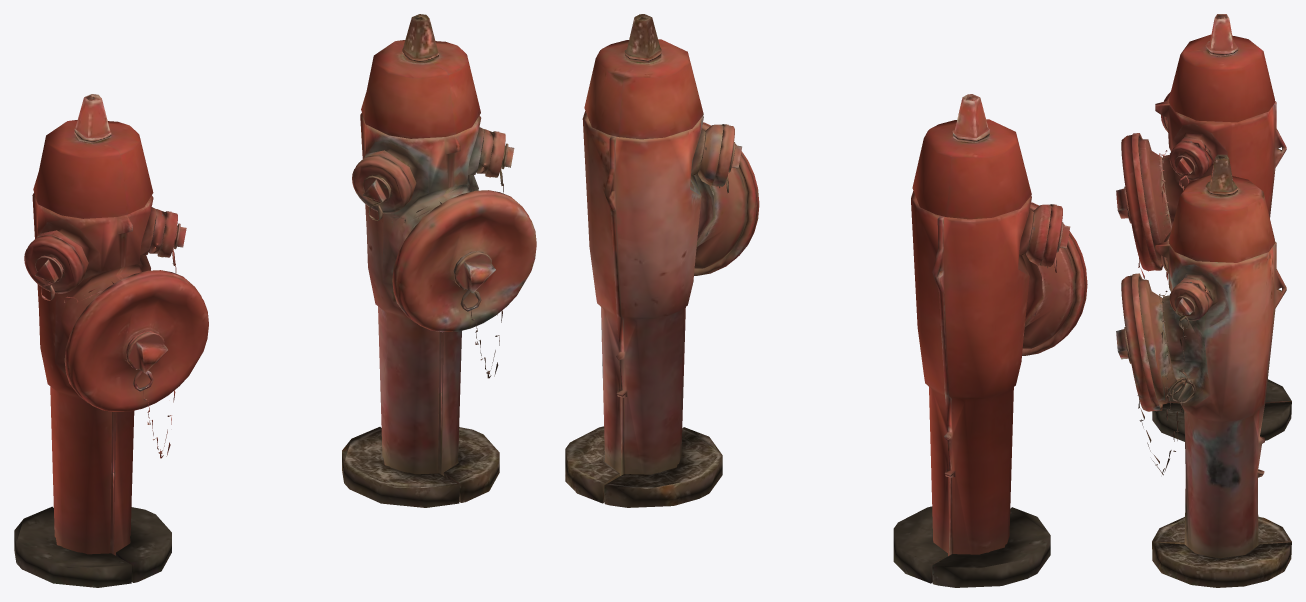
Rendered from fire_hydrant.glb.
The picture shows the model from 3 angles, left to right: view 1: azimuth 30°, elevation 25°; view 2: azimuth 150°, elevation 25°; view 3: azimuth 270°, elevation 25°; orthographic projection. The views are drawn at different scales.
Visible parts, largest first — view 1: fire_hydrant, fire_hydrant_aged; view 2: fire_hydrant, fire_hydrant_aged; view 3: fire_hydrant_aged, fire_hydrant.
Part boxes in pixels (<box>): fire_hydrant: <box>14,94,208,587</box>; fire_hydrant_aged: <box>342,14,536,507</box>; fire_hydrant: <box>893,94,1087,587</box>; fire_hydrant_aged: <box>565,14,759,507</box>; fire_hydrant_aged: <box>1116,154,1291,587</box>; fire_hydrant: <box>1116,14,1291,441</box>.
Size of the model in its own units: 0.8747 by 0.7992 by 0.3173.
Materials: 2 (2 with a texture image).
